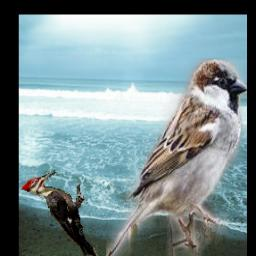Sparrow: (106, 58, 247, 256)
Woodpecker: (21, 168, 101, 256)
